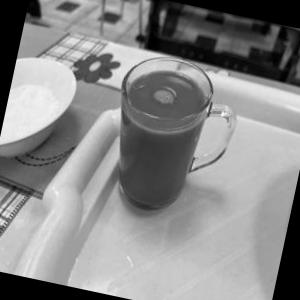coffee: (83, 42, 254, 234)
